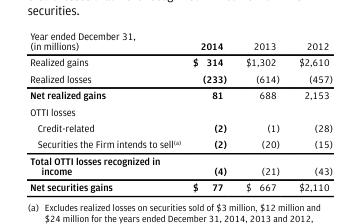table: (29, 29, 332, 192)
table column: (29, 29, 186, 192), (235, 29, 288, 192), (186, 29, 235, 192), (288, 29, 332, 192)
table column header: (29, 29, 332, 53)
table projected row header: (29, 102, 332, 119)
table row: (29, 152, 332, 178), (29, 29, 332, 53), (29, 69, 332, 86), (29, 102, 332, 119), (29, 135, 332, 152), (29, 53, 332, 69), (29, 86, 332, 102), (29, 119, 332, 135), (29, 178, 332, 192)
